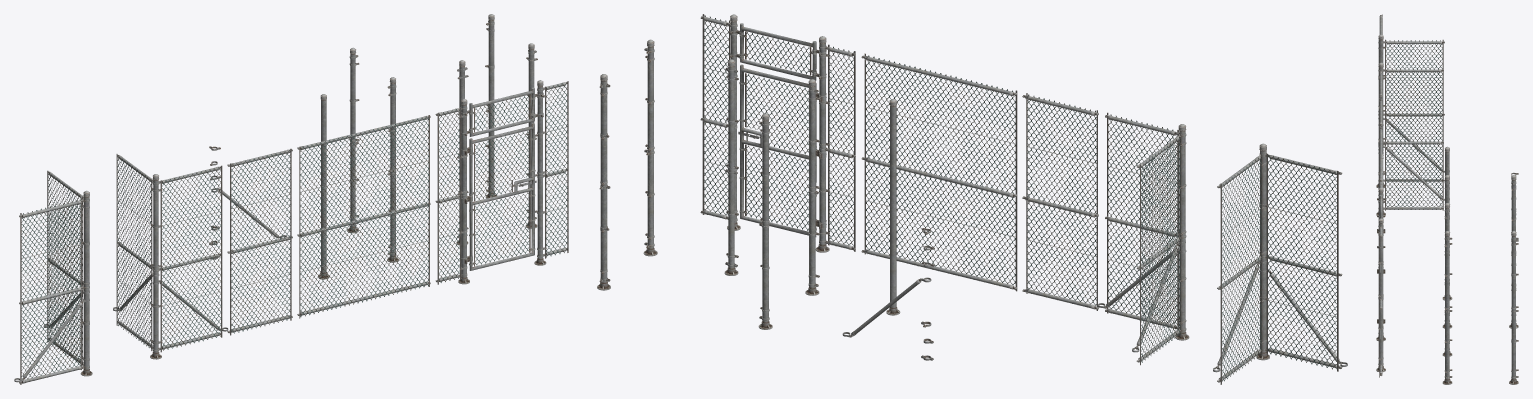
Rendered from modular_chainlink_fence.glb.
3 views of the same model, side by side, from view 1: azimuth 30°, elevation 25°; view 2: azimuth 150°, elevation 25°; view 3: azimuth 270°, elevation 25° (orthographic). The views are drawn at different scales.
Visible parts, largest first — view 1: modular_chainlink_fence_double, modular_chainlink_fence_corner_outer, modular_chainlink_fence_corner_inner, modular_chainlink_fence_door_frame, modular_chainlink_fence, modular_chainlink_fence_door_gate, modular_chainlink_fence_start_01_corner_02, modular_chainlink_fence_end_02, modular_chainlink_fence_end_01, modular_chainlink_fence_post, modular_chainlink_fence_start_01_corner_01, modular_chainlink_post_middle; view 2: modular_chainlink_fence_double, modular_chainlink_fence_corner_inner, modular_chainlink_fence_corner_outer, modular_chainlink_fence_door_frame, modular_chainlink_fence, modular_chainlink_fence_door_gate, modular_chainlink_fence_start_01_corner_02, modular_chainlink_post_middle, modular_chainlink_fence_end_01, modular_chainlink_fence_start_01_corner_01, modular_chainlink_fence_end_02, modular_chainlink_fence_post; view 3: modular_chainlink_fence_corner_outer, modular_chainlink_fence_corner_inner, modular_chainlink_fence_door_frame, modular_chainlink_fence_start_01_corner_01, modular_chainlink_fence_start_01_corner_02, modular_chainlink_fence_end_02, modular_chainlink_fence_double, modular_chainlink_post_middle, modular_chainlink_fence_end_01, modular_chainlink_fence_post.
Boxes of the visible parts, <box> form: modular_chainlink_fence_double: <box>297,115,430,318</box>; modular_chainlink_fence_corner_outer: <box>113,154,228,359</box>; modular_chainlink_fence_corner_inner: <box>14,170,92,384</box>; modular_chainlink_fence_door_frame: <box>435,80,568,284</box>; modular_chainlink_fence: <box>227,148,292,335</box>; modular_chainlink_fence_door_gate: <box>469,123,535,270</box>; modular_chainlink_fence_start_01_corner_02: <box>485,14,496,198</box>; modular_chainlink_fence_end_02: <box>347,47,359,233</box>; modular_chainlink_fence_end_01: <box>387,77,398,262</box>; modular_chainlink_fence_post: <box>317,94,329,279</box>; modular_chainlink_fence_start_01_corner_01: <box>525,43,537,228</box>; modular_chainlink_post_middle: <box>456,60,468,245</box>; modular_chainlink_fence_double: <box>861,53,1017,291</box>; modular_chainlink_fence_corner_inner: <box>1213,143,1347,384</box>; modular_chainlink_fence_corner_outer: <box>1097,112,1189,365</box>; modular_chainlink_fence_door_frame: <box>700,14,855,252</box>; modular_chainlink_fence: <box>1022,93,1098,310</box>; modular_chainlink_fence_door_gate: <box>739,64,816,236</box>; modular_chainlink_fence_start_01_corner_02: <box>597,74,610,290</box>; modular_chainlink_post_middle: <box>724,59,738,275</box>; modular_chainlink_fence_end_01: <box>805,79,819,295</box>; modular_chainlink_fence_start_01_corner_01: <box>643,39,657,256</box>; modular_chainlink_fence_end_02: <box>758,113,772,329</box>; modular_chainlink_fence_post: <box>886,99,900,315</box>; modular_chainlink_fence_corner_outer: <box>1376,62,1449,228</box>; modular_chainlink_fence_corner_inner: <box>1376,14,1449,188</box>; modular_chainlink_fence_door_frame: <box>1376,182,1385,377</box>; modular_chainlink_fence_start_01_corner_01: <box>1442,231,1452,384</box>; modular_chainlink_fence_start_01_corner_02: <box>1509,231,1518,384</box>; modular_chainlink_fence_end_02: <box>1509,175,1518,328</box>; modular_chainlink_fence_double: <box>1379,126,1382,183</box>; modular_chainlink_post_middle: <box>1442,203,1452,356</box>; modular_chainlink_fence_end_01: <box>1442,175,1452,328</box>; modular_chainlink_fence_post: <box>1442,146,1452,300</box>.
Bounding box in the file's own units: 8.11 × 2.52 × 2.15.
Materials: 2 (2 with a texture image).
